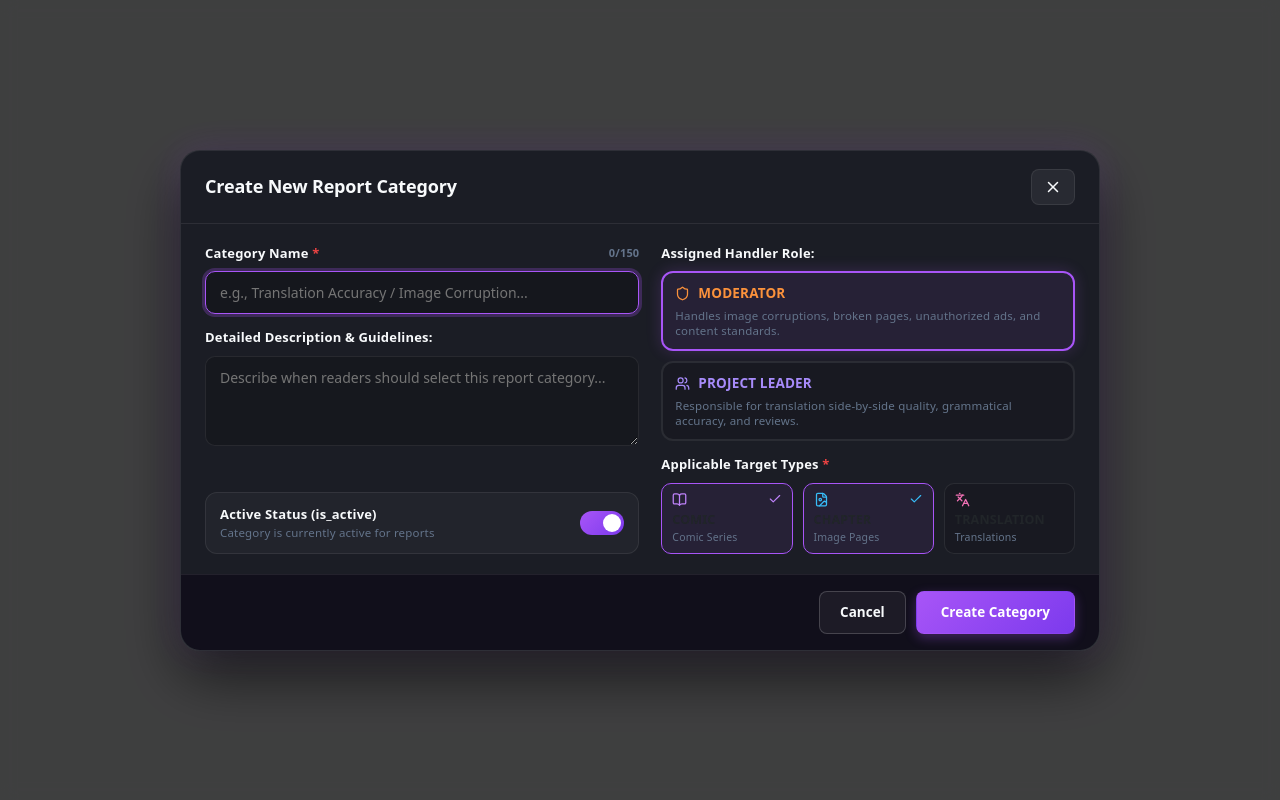
Test case: Report System - Comprehensive Test Suite with Reader Reporting › 4. ReportCategories Screen & CategoryModal › validates required fields in CategoryModal when creating category
Click the button "Create Category". click: (995, 612)
box: x1=916 y1=591 x2=1075 y2=634
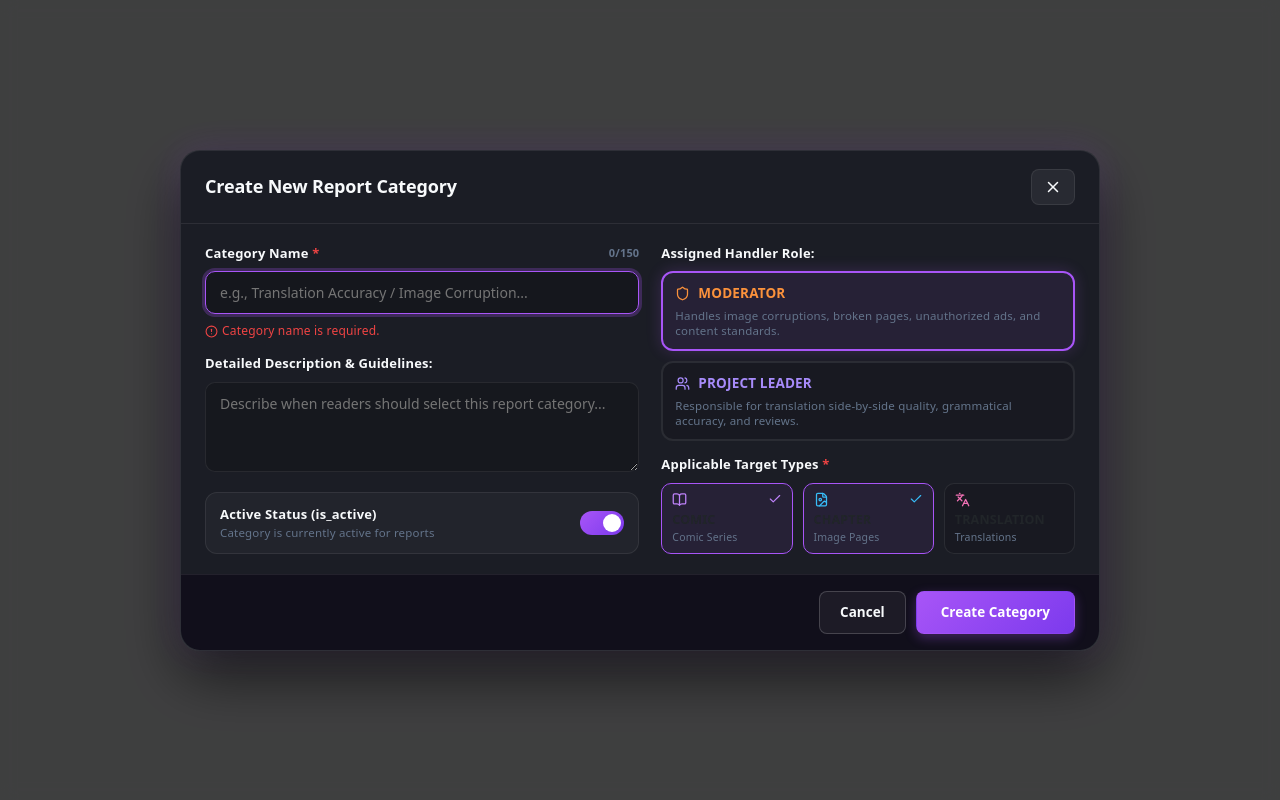
Check: the text "Category name is required." is shown, box x1=205 y1=322 x2=380 y2=339
